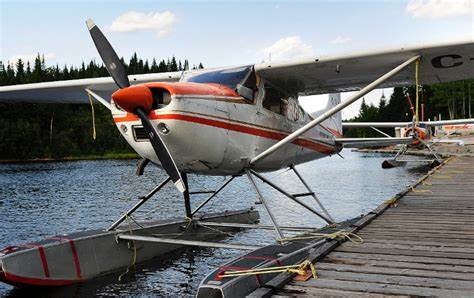Aeronef_commercial: (1, 13, 474, 298), (341, 116, 474, 174)
